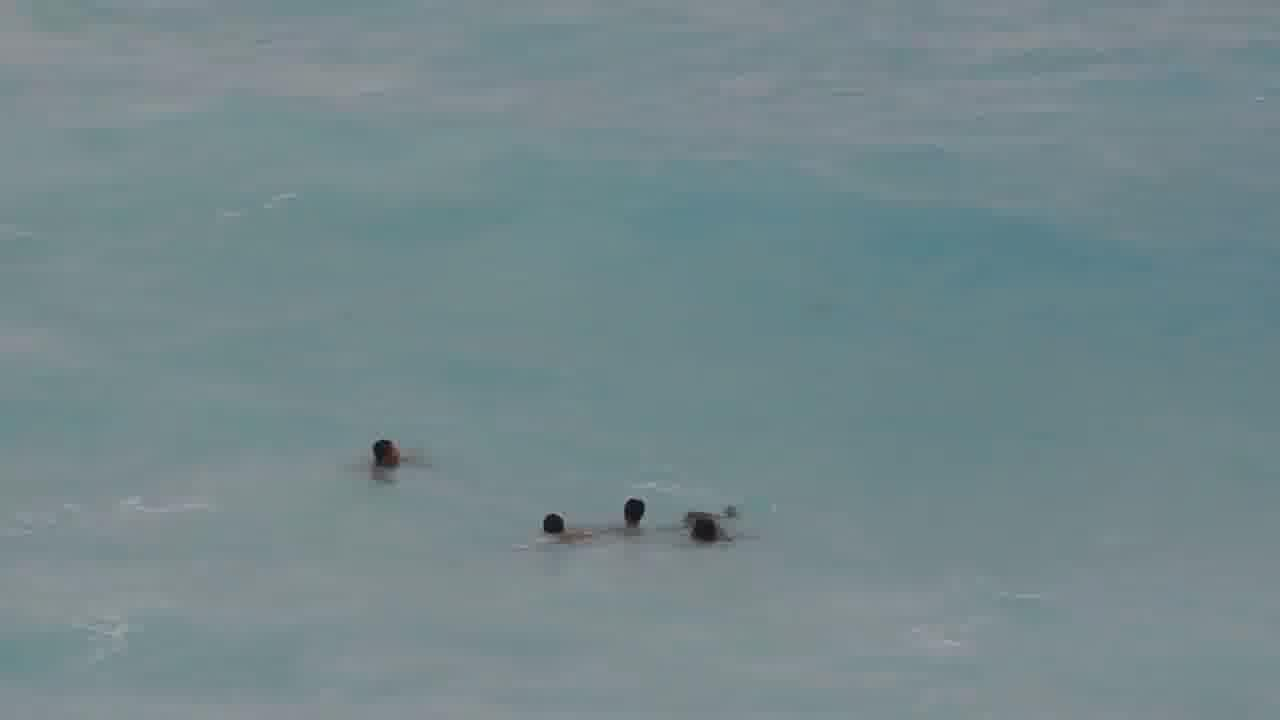human: (674, 498, 748, 544), (359, 432, 427, 480), (519, 506, 594, 543), (604, 493, 673, 533)
